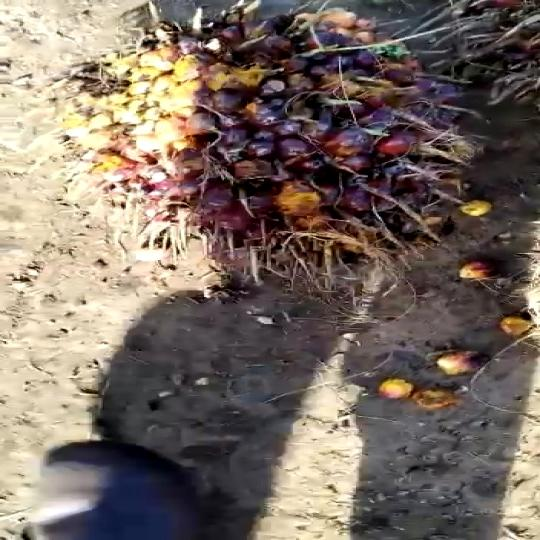masak: (78, 10, 492, 301)
